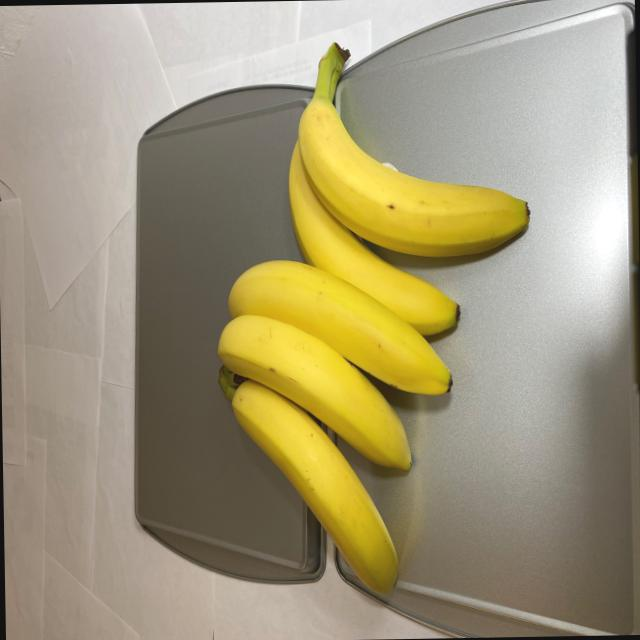banana: (209, 44, 537, 600)
